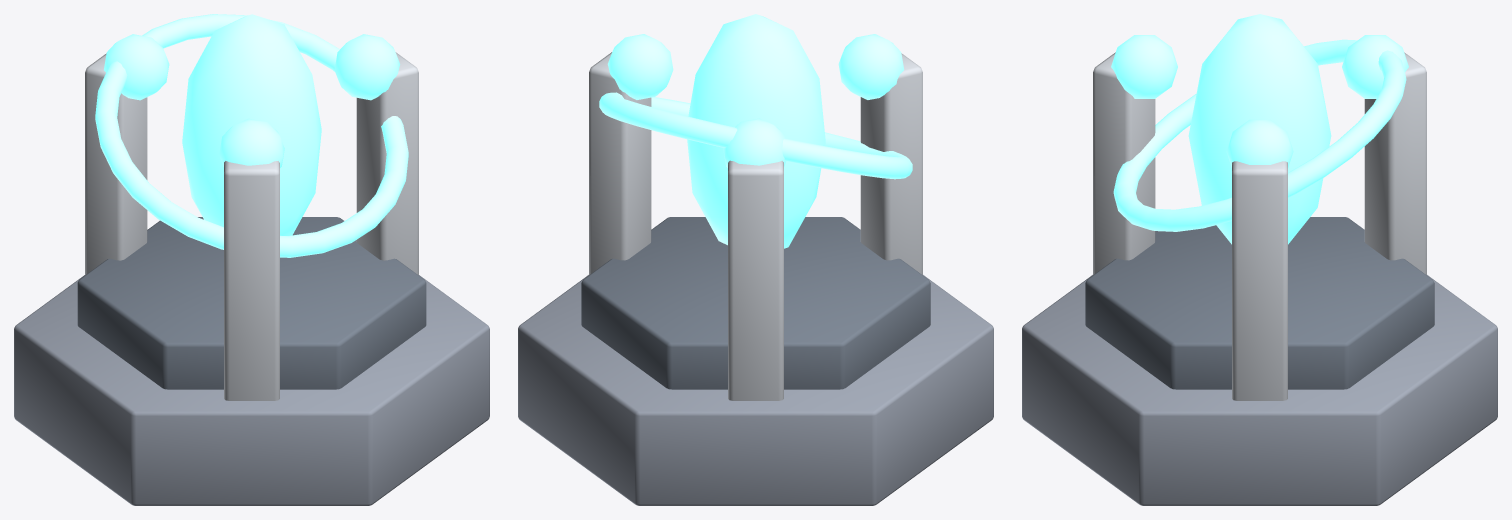
The model's file is bldg_argon_refinery.glb.
3 views of the same model, side by side, from view 1: azimuth 30°, elevation 25°; view 2: azimuth 150°, elevation 25°; view 3: azimuth 270°, elevation 25° (orthographic).
Visible parts, largest first — view 1: StaticBody, Anim_Floater, Anim_Rotor; view 2: StaticBody, Anim_Floater, Anim_Rotor; view 3: StaticBody, Anim_Floater, Anim_Rotor.
Boxes of the visible parts, left/top/right/bottom form: StaticBody: left=14, top=34, right=489, bottom=505; Anim_Floater: left=182, top=14, right=321, bottom=235; Anim_Rotor: left=95, top=14, right=408, bottom=257; StaticBody: left=518, top=34, right=993, bottom=505; Anim_Floater: left=687, top=14, right=825, bottom=248; Anim_Rotor: left=599, top=92, right=912, bottom=179; StaticBody: left=1022, top=35, right=1497, bottom=505; Anim_Floater: left=1188, top=14, right=1331, bottom=244; Anim_Rotor: left=1113, top=39, right=1406, bottom=231.
Bounding box in the file's own units: 2.22 × 2.4 × 2.55.
